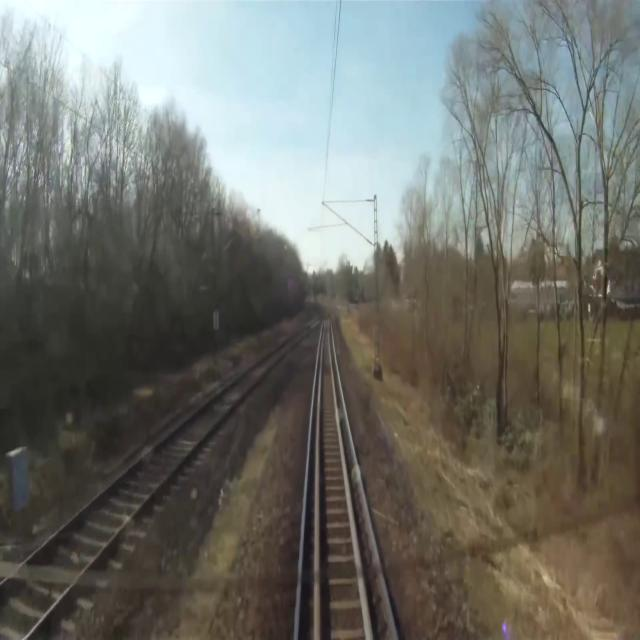rail-track: (0, 324, 313, 639), (330, 332, 393, 639), (320, 319, 365, 639), (299, 353, 319, 639)
